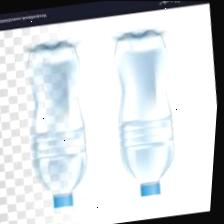plastic: (25, 40, 90, 206), (115, 32, 178, 196)
